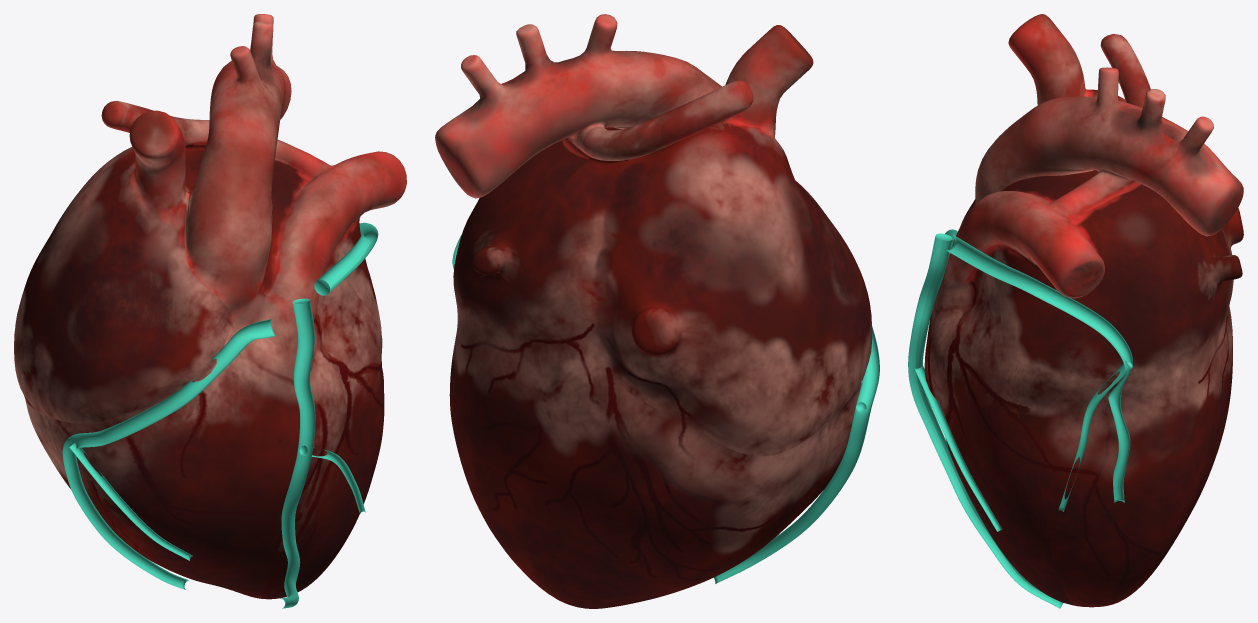
File: heart_coronary_optimized.glb
The picture shows the model from 3 angles, left to right: view 1: azimuth 30°, elevation 25°; view 2: azimuth 150°, elevation 25°; view 3: azimuth 270°, elevation 25°; orthographic projection. The views are drawn at different scales.
Visible parts, largest first — view 1: myocardium, vessel_RCA, vessel_LAD, vessel_LCX; view 2: myocardium, vessel_RCA; view 3: myocardium, vessel_LAD, vessel_LCX.
Part boxes in pixels (left/top/right/bottom): myocardium: left=14, top=14, right=406, bottom=599; vessel_RCA: left=62, top=319, right=275, bottom=589; vessel_LAD: left=280, top=298, right=365, bottom=608; vessel_LCX: left=314, top=222, right=378, bottom=295; myocardium: left=435, top=14, right=872, bottom=608; vessel_RCA: left=714, top=326, right=879, bottom=583; myocardium: left=924, top=14, right=1243, bottom=607; vessel_LAD: left=908, top=233, right=1063, bottom=608; vessel_LCX: left=945, top=235, right=1132, bottom=511.
Bounding box in the file's own units: 1.09 × 1.62 × 0.9258.
4 materials, 1 textured.
